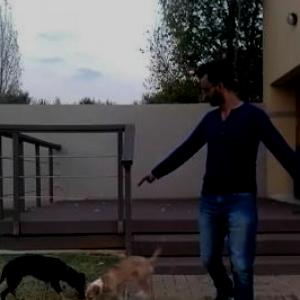land: (110, 37, 299, 299)
